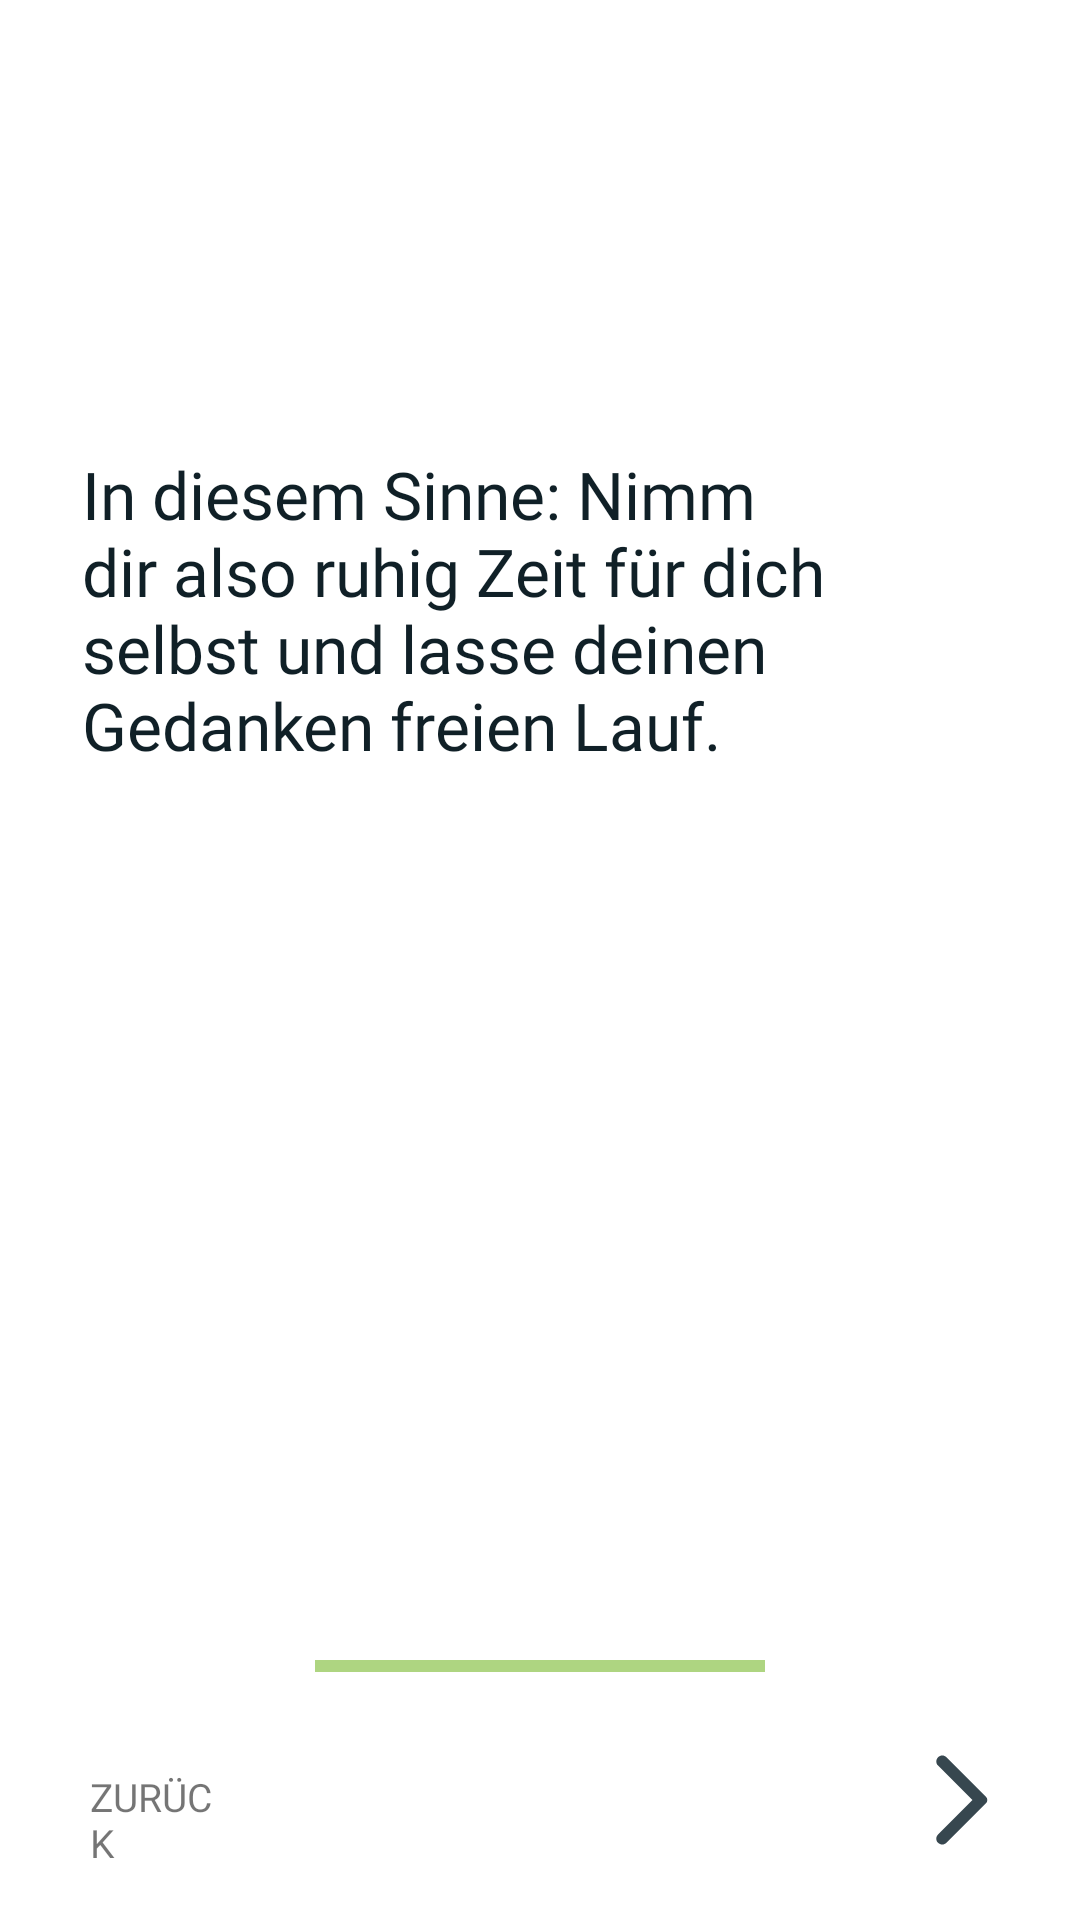

Where to tap for icons on this 1080 x 1920 app screen, as point (x, y):
weiter: point (962, 1800)
